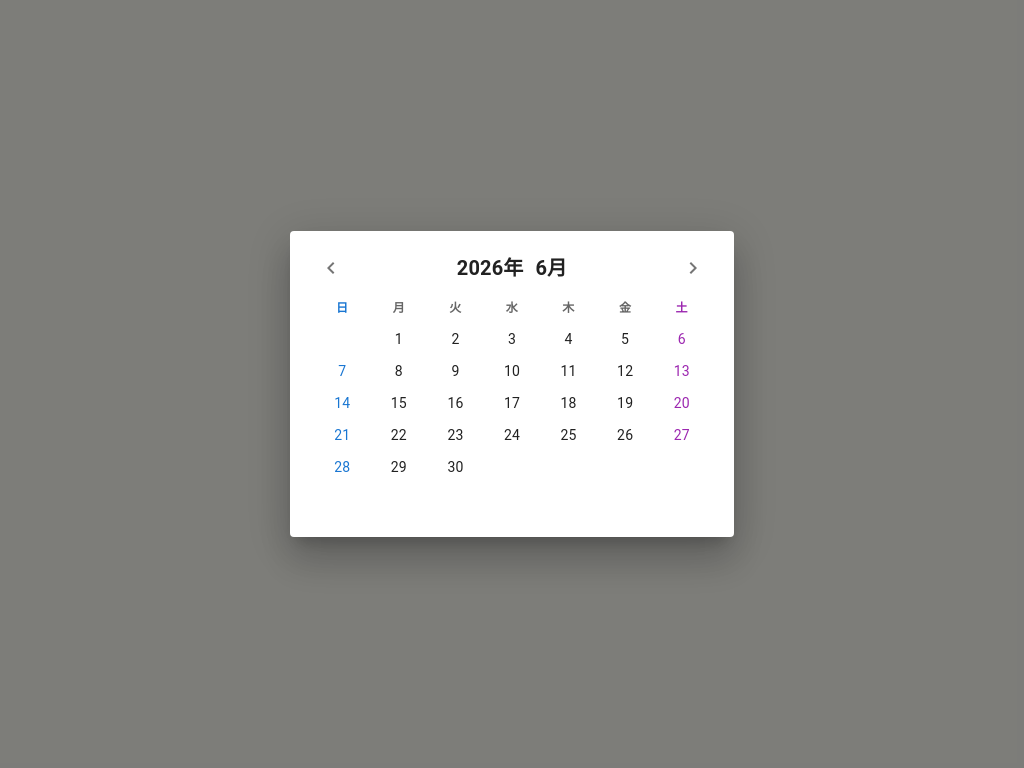
月移動 › 12月から次月へ移動すると1月・翌年になる
Click the heading "6月": [551, 268] box [535,256,567,280]
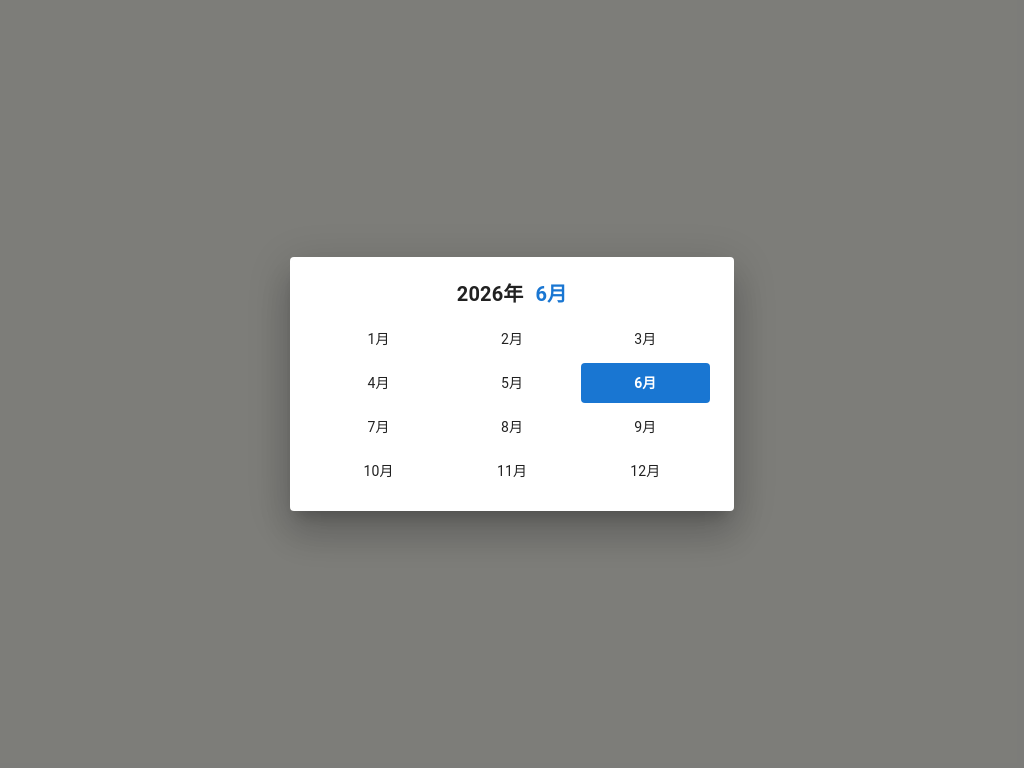
Click the text "12月": [645, 471] box [630,461,660,481]
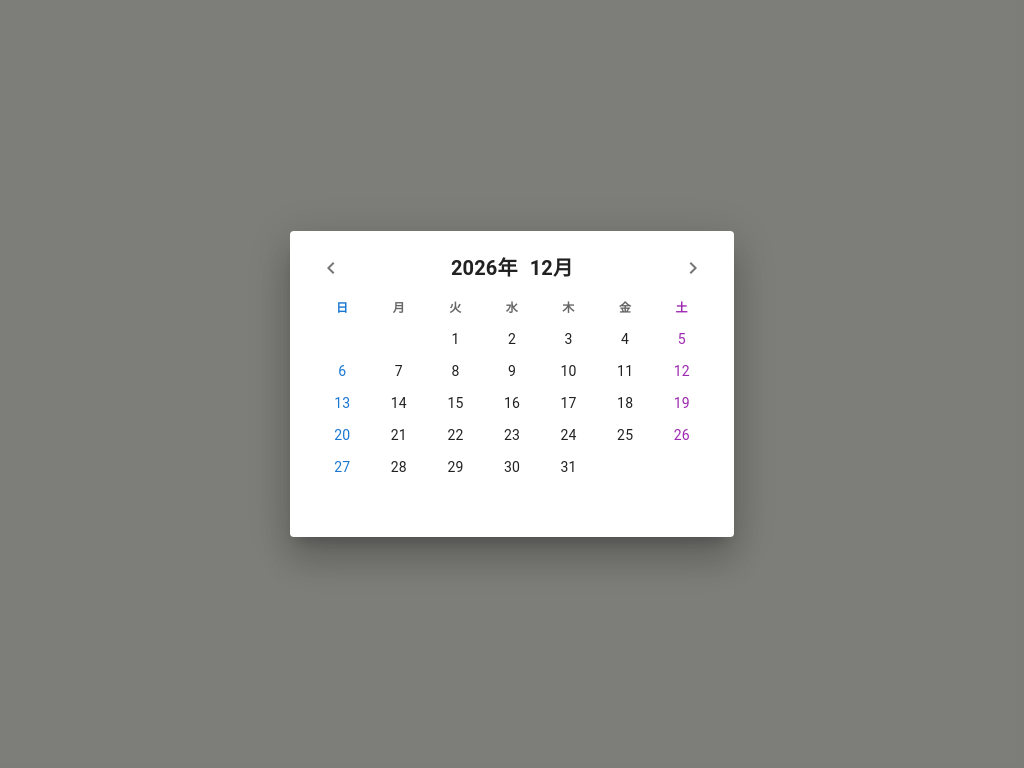
Click the button with test id "ChevronRightIcon": [693, 268] box [676,251,710,285]
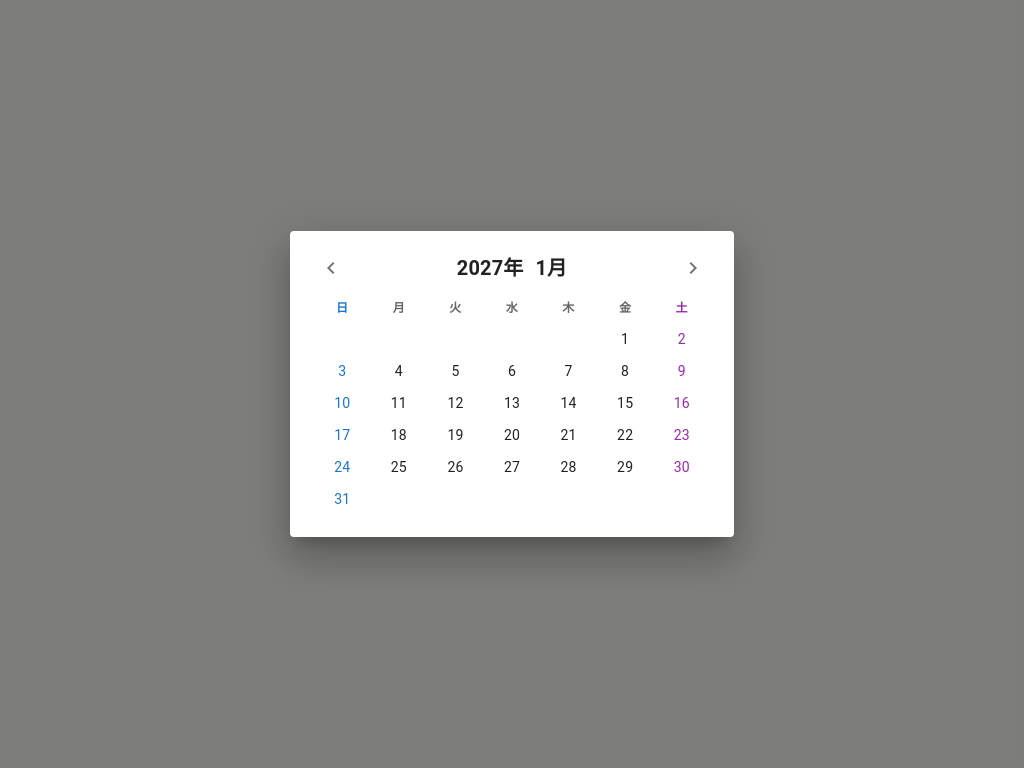
Now the heading "1月" is shown, box [535,256,567,280]
